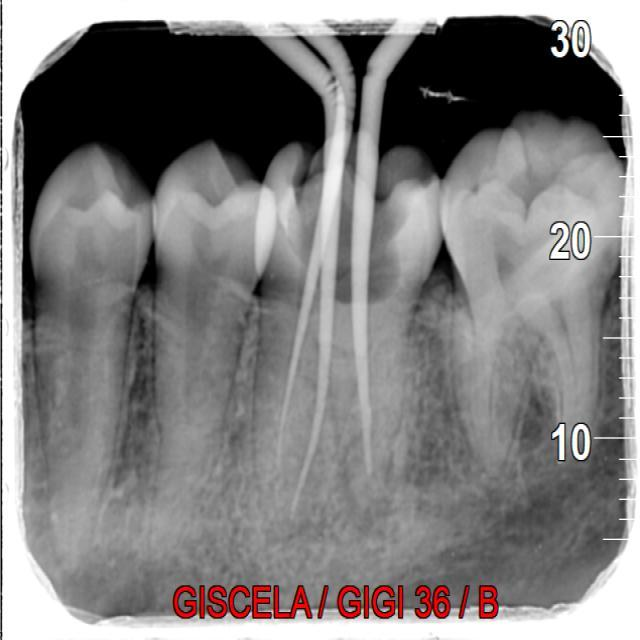individual-tooth-8tto: (436, 102, 639, 471), (258, 140, 448, 534), (152, 143, 276, 568), (32, 138, 156, 549)
